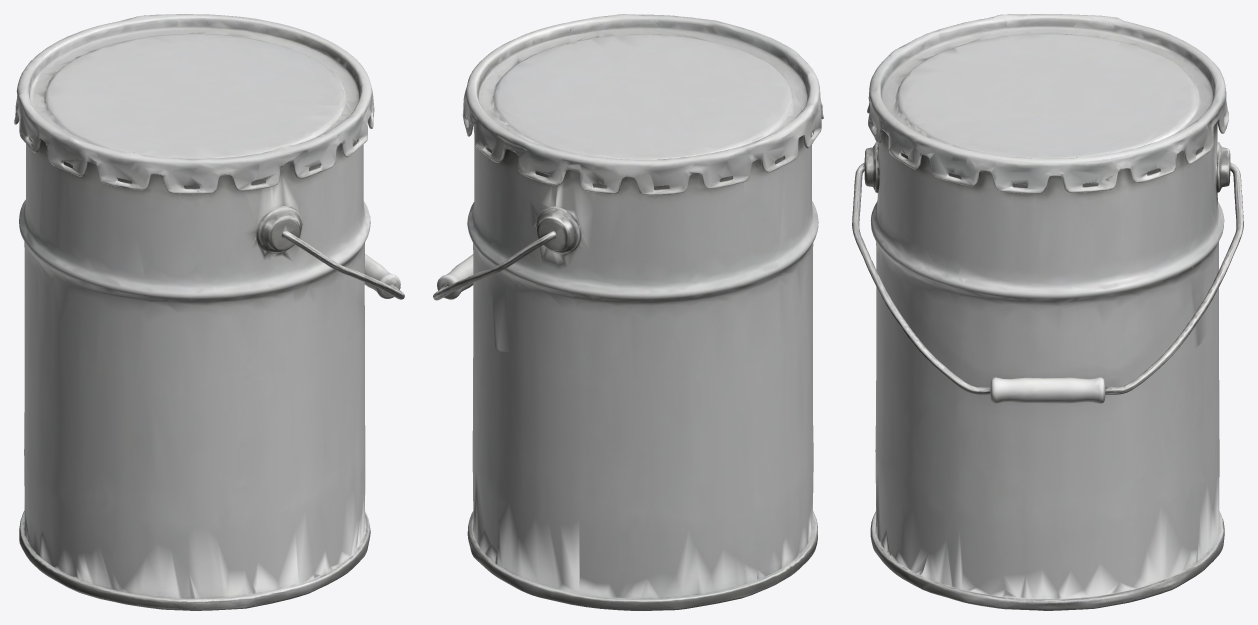
Rendered from yhpugrout-2102.glb.
3 views of the same model, side by side, from view 1: azimuth 30°, elevation 25°; view 2: azimuth 150°, elevation 25°; view 3: azimuth 270°, elevation 25° (orthographic).
Visible parts, largest first — view 1: tripo_node_865a9799-be74-4ae5-8a6e-0db50dcf6bea; view 2: tripo_node_865a9799-be74-4ae5-8a6e-0db50dcf6bea; view 3: tripo_node_865a9799-be74-4ae5-8a6e-0db50dcf6bea.
Part boxes in pixels (x1,y1,x2,y2): tripo_node_865a9799-be74-4ae5-8a6e-0db50dcf6bea: [14, 14, 404, 610]; tripo_node_865a9799-be74-4ae5-8a6e-0db50dcf6bea: [433, 14, 823, 610]; tripo_node_865a9799-be74-4ae5-8a6e-0db50dcf6bea: [852, 14, 1243, 610].
Size of the model in its own units: 0.7798 by 0.9997 by 0.7846.
1 material, 1 textured.
